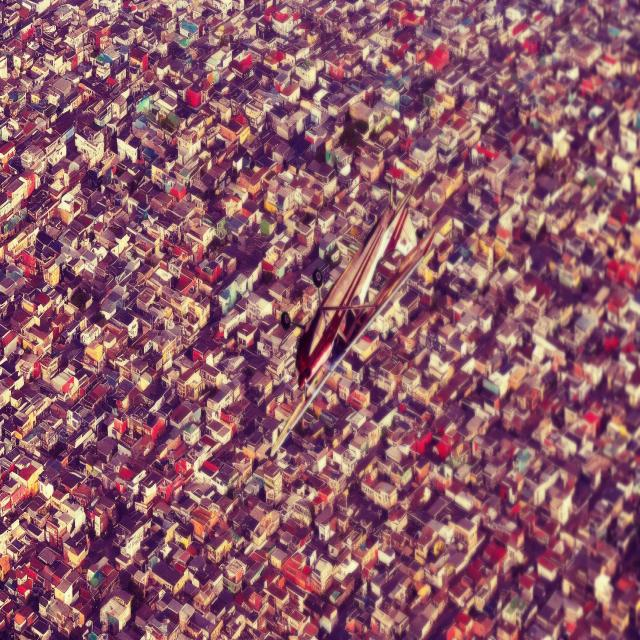airplane: (268, 174, 440, 459)
